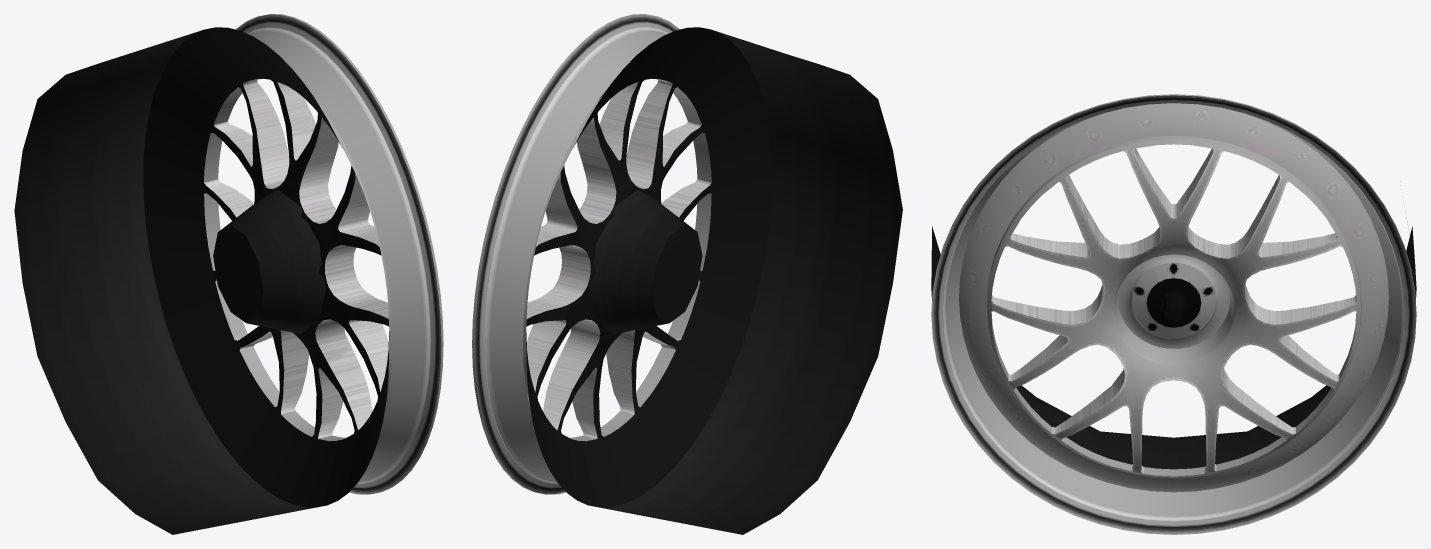
File: wheel4.fbx
3 views of the same model, side by side, from view 1: azimuth 30°, elevation 25°; view 2: azimuth 150°, elevation 25°; view 3: azimuth 270°, elevation 25° (orthographic).
Visible parts, largest first — view 1: por_3_911gt3cup_05_wheel_wheel_inner_rim_, wheel_rim, por_3_911gt3cup_05_wheel_wheel_rim_; view 2: por_3_911gt3cup_05_wheel_wheel_inner_rim_, wheel_rim, por_3_911gt3cup_05_wheel_wheel_rim_; view 3: wheel_rim, por_3_911gt3cup_05_wheel_wheel_rim_, por_3_911gt3cup_05_wheel_wheel_inner_rim_.
Boxes of the visible parts, x1,y1,x2,y2 form: por_3_911gt3cup_05_wheel_wheel_inner_rim_: (14, 27, 389, 534); wheel_rim: (204, 14, 443, 494); por_3_911gt3cup_05_wheel_wheel_rim_: (204, 80, 388, 438); por_3_911gt3cup_05_wheel_wheel_inner_rim_: (526, 27, 902, 534); wheel_rim: (472, 14, 711, 494); por_3_911gt3cup_05_wheel_wheel_rim_: (526, 80, 711, 438); wheel_rim: (931, 94, 1416, 534); por_3_911gt3cup_05_wheel_wheel_rim_: (961, 103, 1388, 490); por_3_911gt3cup_05_wheel_wheel_inner_rim_: (931, 218, 1416, 469).
Bounding box in the file's own units: 0.2112 × 0.4725 × 0.4725.
Materials: 1 (1 with a texture image).
